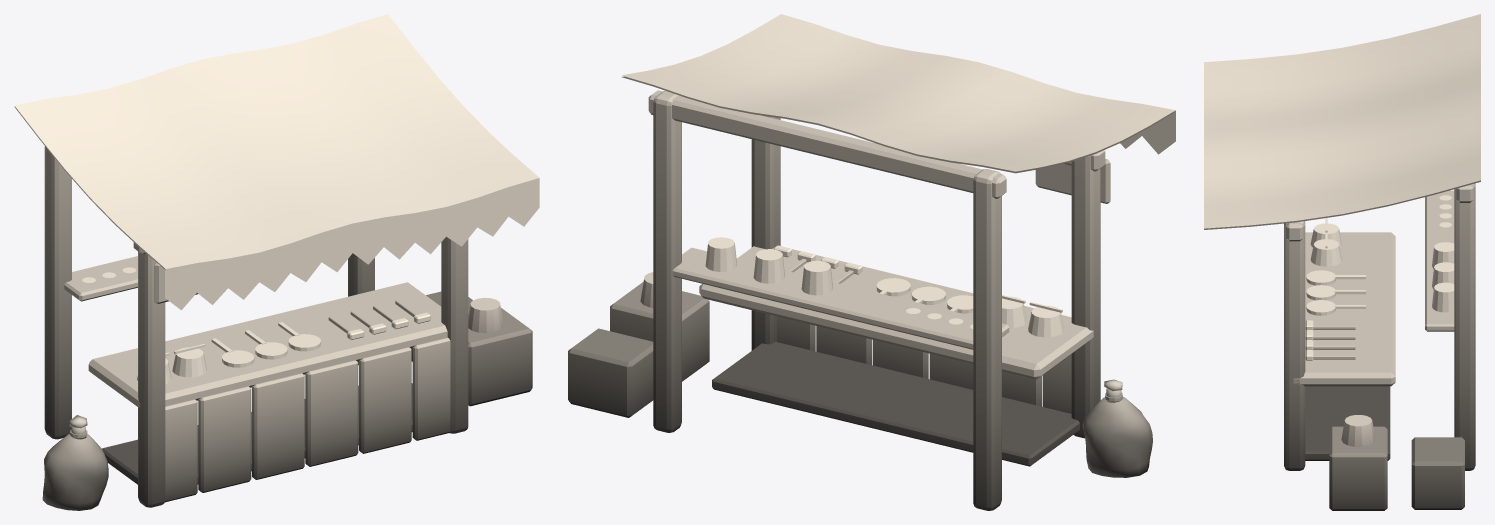
The model's file is SM_VK_MarketStall_Tinker.fbx.
3 renders of one model, left to right at view 1: azimuth 30°, elevation 25°; view 2: azimuth 150°, elevation 25°; view 3: azimuth 270°, elevation 25°, orthographic. The views are drawn at different scales.
Visible parts, largest first — view 1: SM_VK_MarketStall_Tinker.001; view 2: SM_VK_MarketStall_Tinker.001; view 3: SM_VK_MarketStall_Tinker.001.
Part boxes in pixels (x1,y1,x2,y2): SM_VK_MarketStall_Tinker.001: (14,14,539,510); SM_VK_MarketStall_Tinker.001: (568,14,1175,510); SM_VK_MarketStall_Tinker.001: (1204,14,1480,510).
Size of the model in its own units: 4.79 by 3.17 by 2.6.
